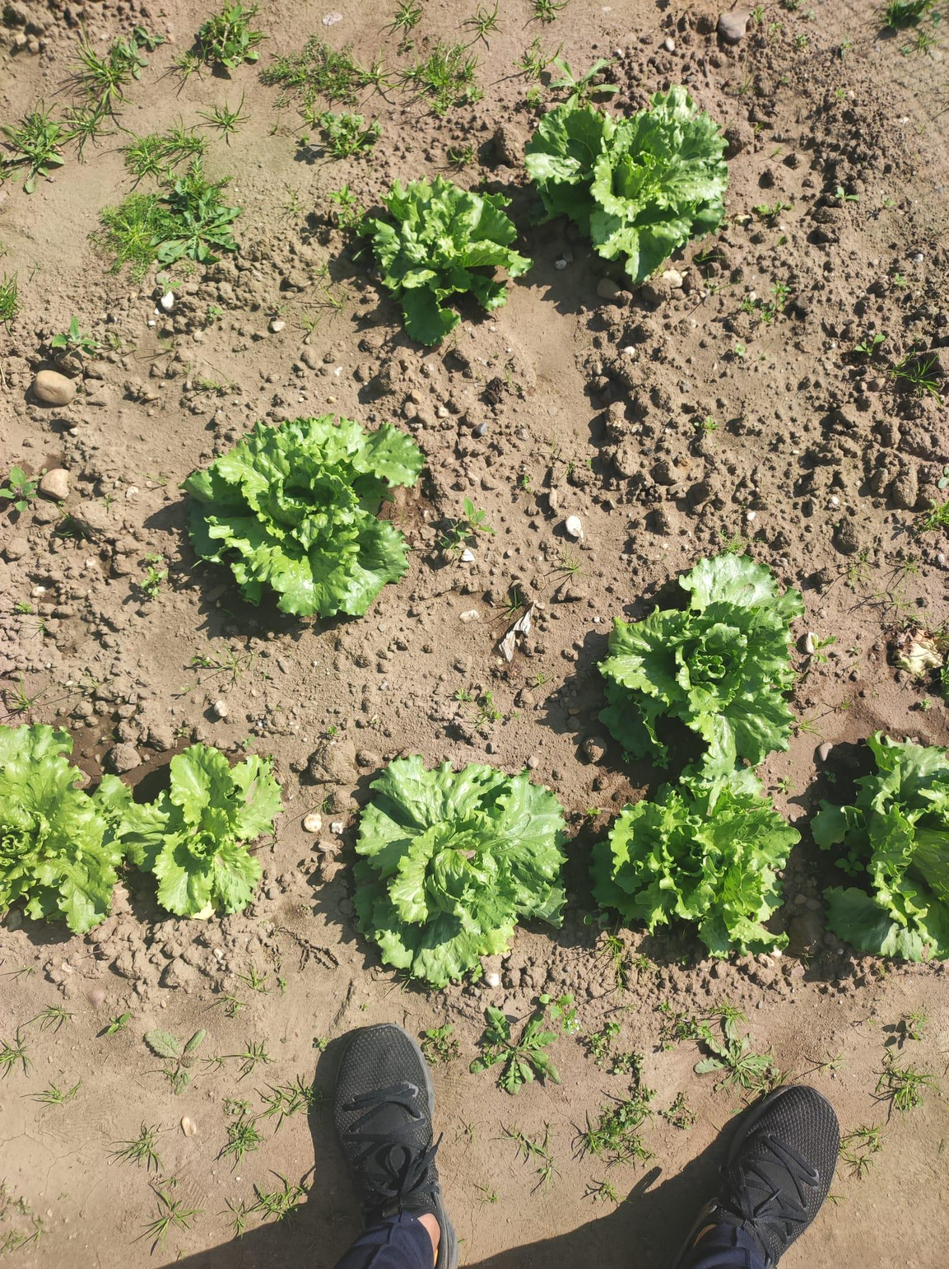Healthy: (352, 757, 566, 988), (181, 415, 423, 617), (599, 555, 803, 764), (590, 765, 801, 959), (525, 84, 728, 285), (813, 732, 949, 962), (359, 175, 531, 345), (116, 745, 281, 918), (0, 724, 130, 935)
